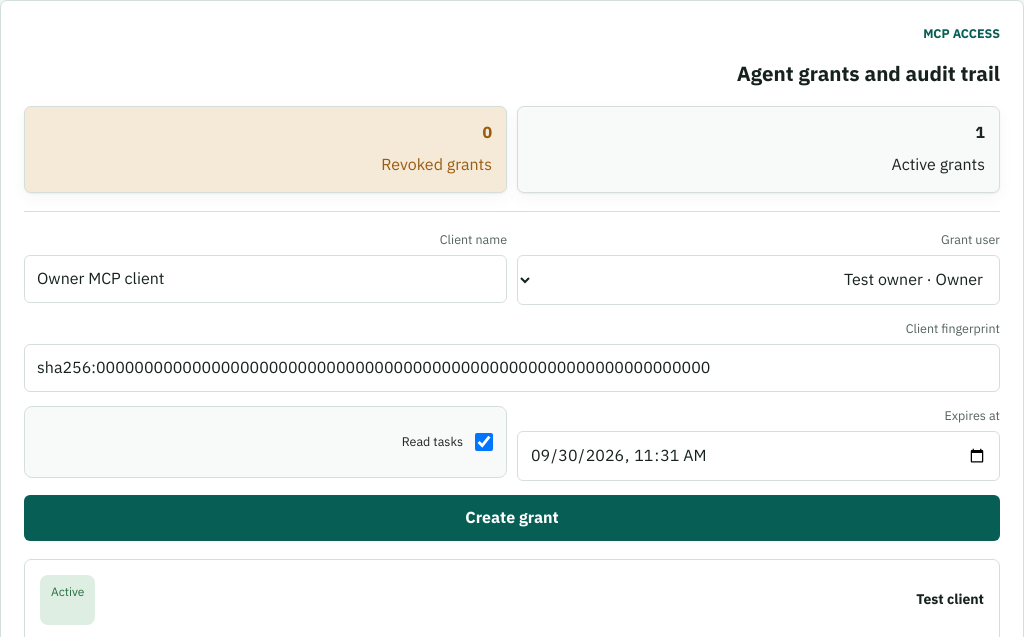
Test: create reports the actual write result (refresh_failed)
This screenshot has width=1024, height=637.
Click the button "Create grant" at (512, 518), box top-left (24, 495), bottom-right (1000, 541)
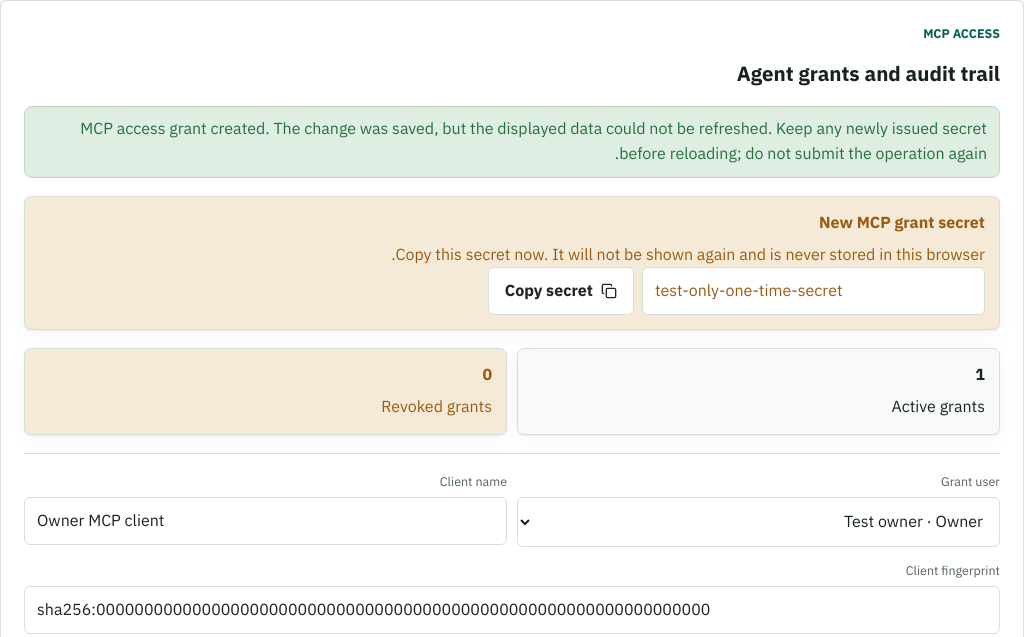
Now the field named "New MCP grant secret" holds "test-only-one-time-secret", box top-left (642, 267), bottom-right (985, 315)
